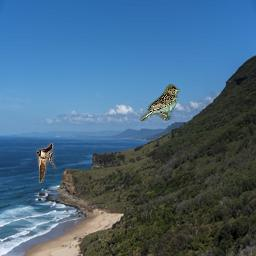Sparrow: (140, 84, 180, 121)
Swallow: (36, 143, 59, 183)
